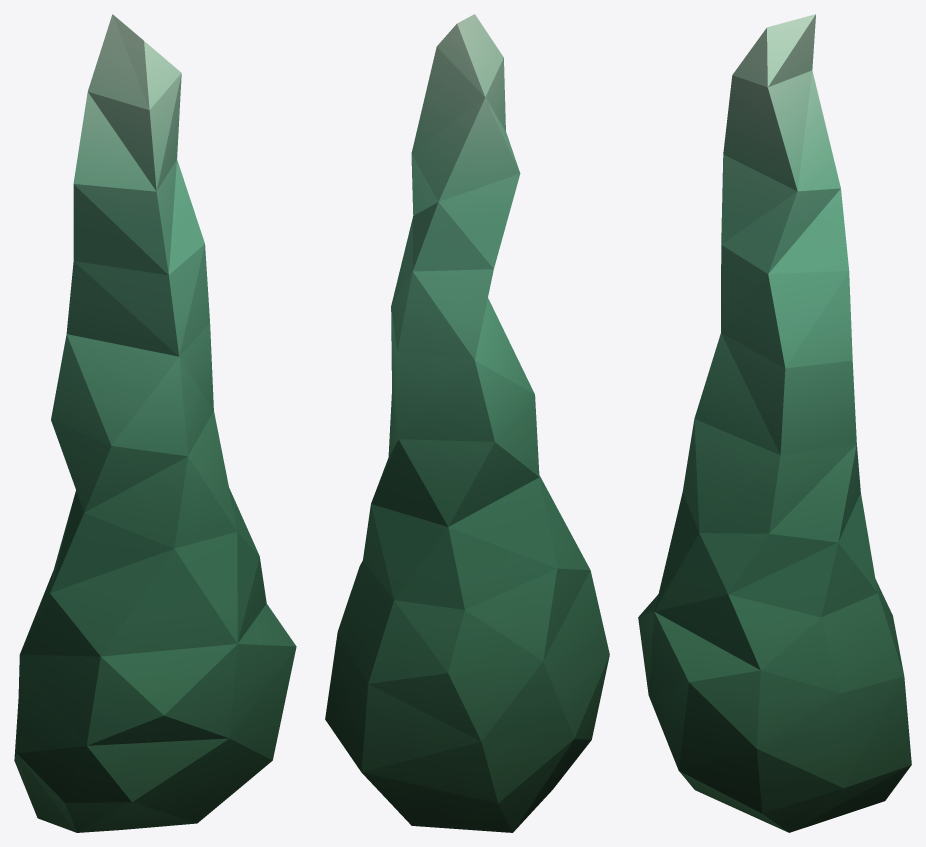
The picture shows the model from 3 angles, left to right: view 1: azimuth 30°, elevation 25°; view 2: azimuth 150°, elevation 25°; view 3: azimuth 270°, elevation 25°; orthographic projection.
Visible parts, largest first — view 1: base_01; view 2: base_01; view 3: base_01.
Boxes of the visible parts, <box> form: base_01: <box>14,14,296,832</box>; base_01: <box>325,14,609,832</box>; base_01: <box>638,14,911,832</box>.
Bounding box in the file's own units: 1.07 × 3.34 × 1.03.
